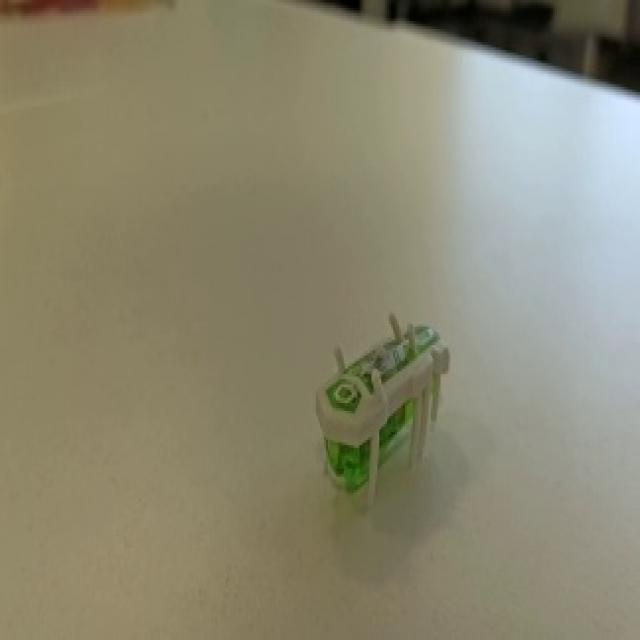4_NanoBug_Blanco: (274, 284, 494, 548)
